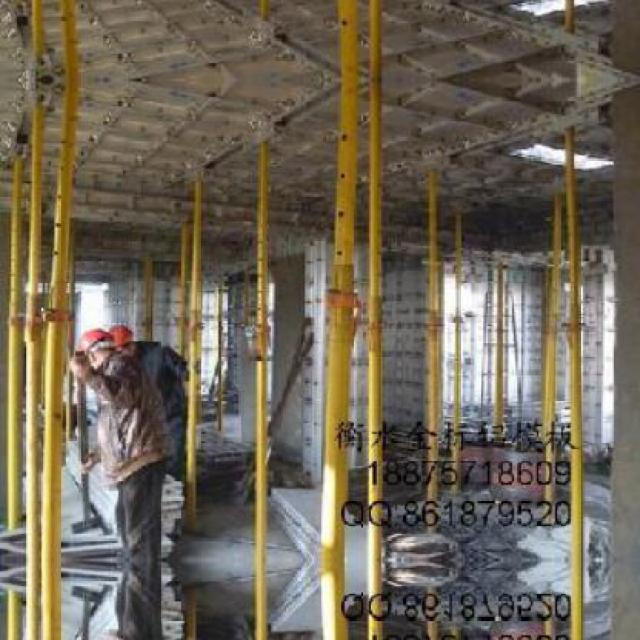helmet: (73, 322, 118, 370), (94, 323, 134, 363)
